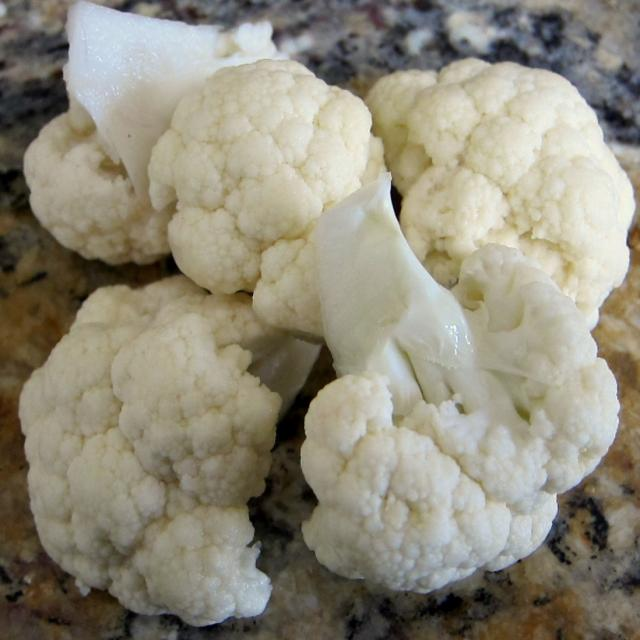cauliflower: (274, 219, 639, 640), (0, 270, 271, 610), (371, 68, 640, 287), (141, 87, 317, 260)
